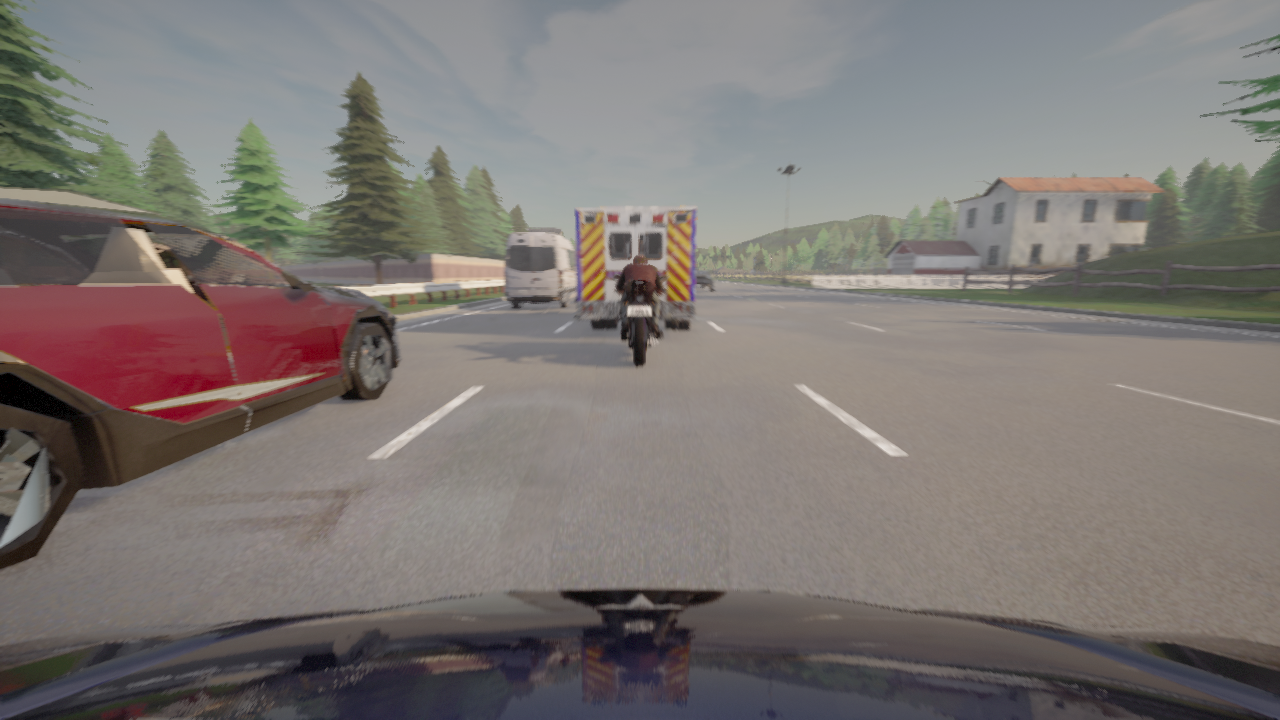cyclist: (0, 588, 1279, 719), (575, 206, 696, 328), (504, 233, 576, 308), (613, 275, 667, 365), (695, 269, 717, 292)
